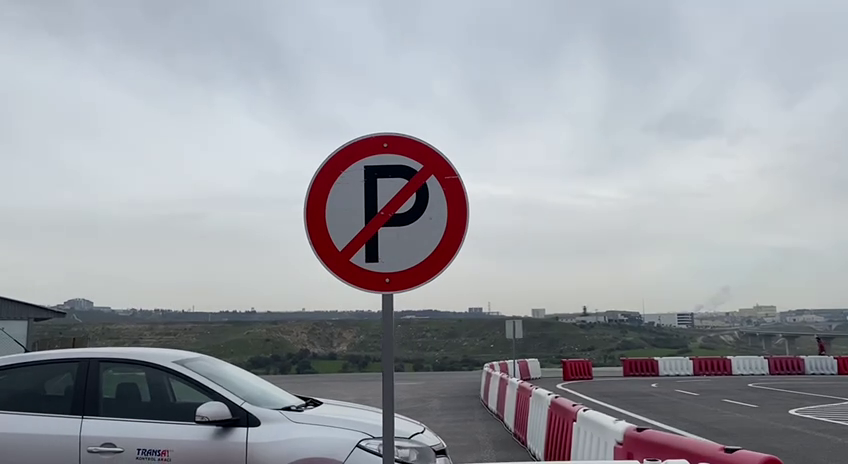noparking: (299, 123, 473, 301)
